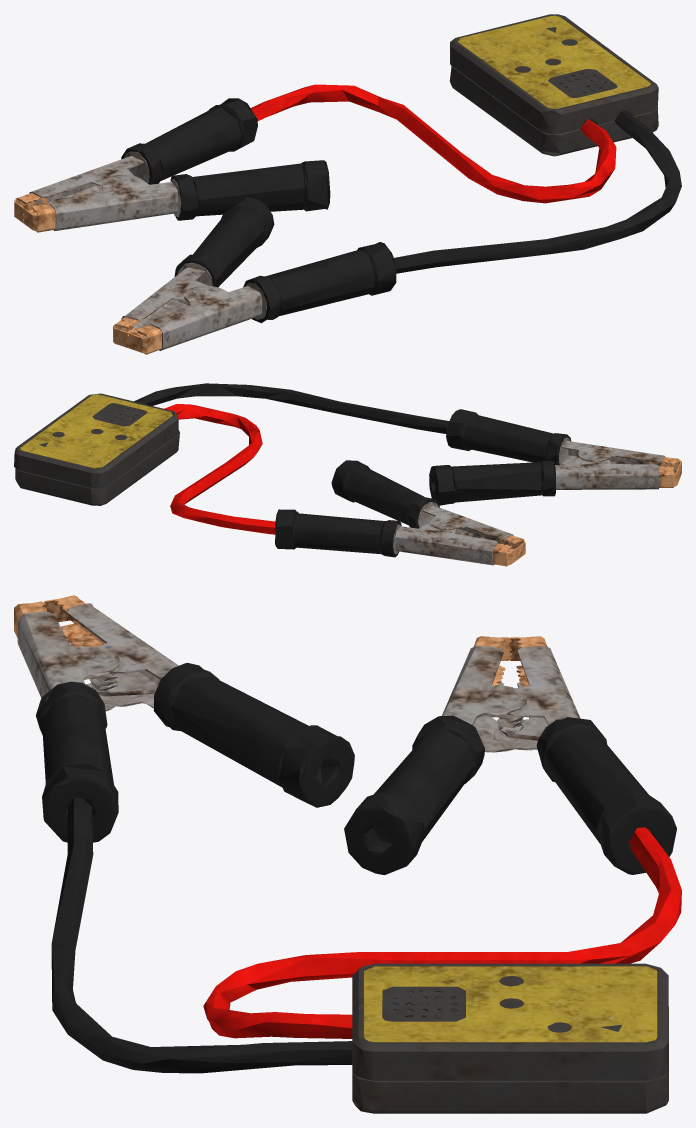
The model's file is item_jumper_clamps.glb.
3 views of the same model, one above another, from view 1: azimuth 30°, elevation 25°; view 2: azimuth 150°, elevation 25°; view 3: azimuth 270°, elevation 25° (orthographic). The views are drawn at different scales.
Visible parts, largest first — view 1: item_jumper_clamps; view 2: item_jumper_clamps; view 3: item_jumper_clamps.
Part boxes in pixels (x1,y1,x2,y2): item_jumper_clamps: (14, 14, 681, 354); item_jumper_clamps: (14, 383, 681, 566); item_jumper_clamps: (14, 595, 681, 1113).
Size of the model in its own units: 0.3951 by 0.0289 by 0.2344.
Materials: 7 (7 with a texture image).
